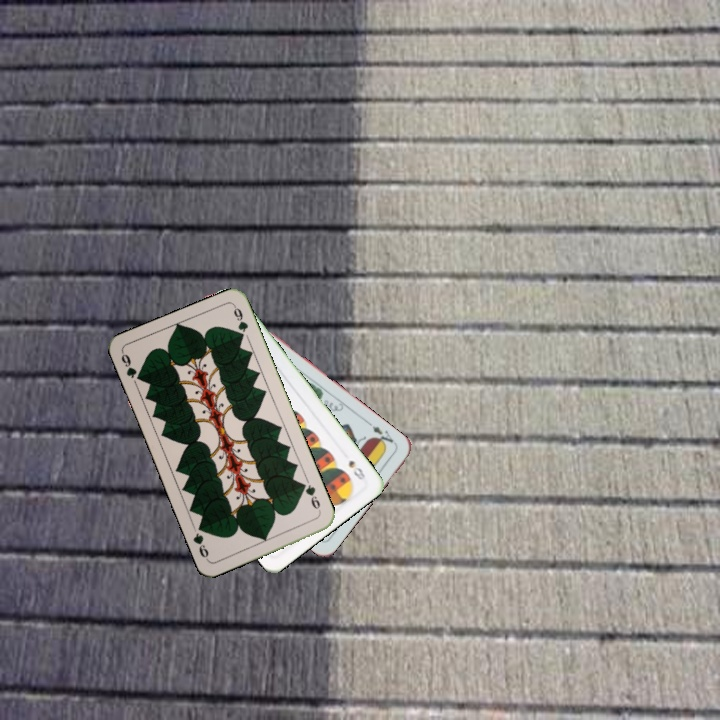EA: (364, 418, 399, 449)
G9: (117, 348, 146, 384), (297, 479, 324, 516)
S8: (344, 456, 368, 483)
